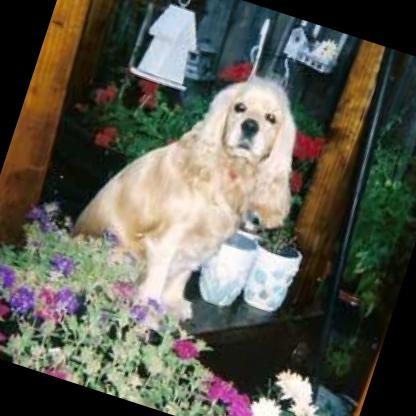Sussex_spaniel: (58, 34, 324, 340)
